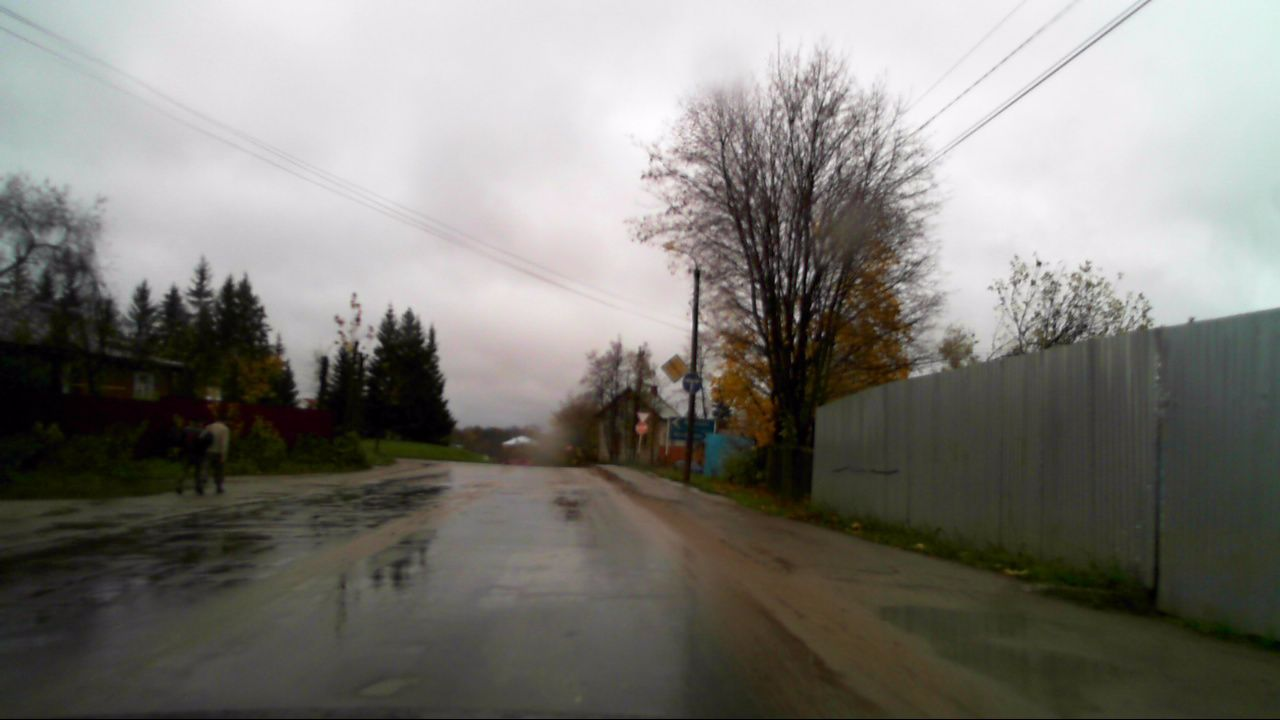main road: (661, 353, 689, 383)
